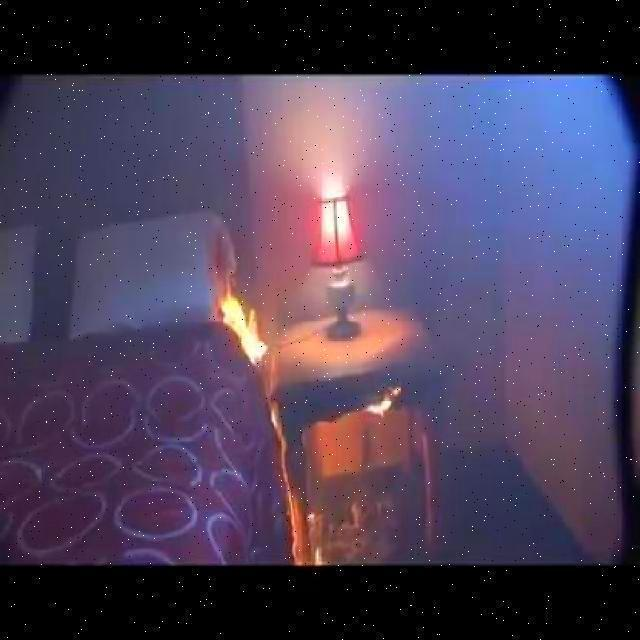smoke: (269, 405, 308, 564), (213, 274, 270, 371), (364, 384, 402, 417)
